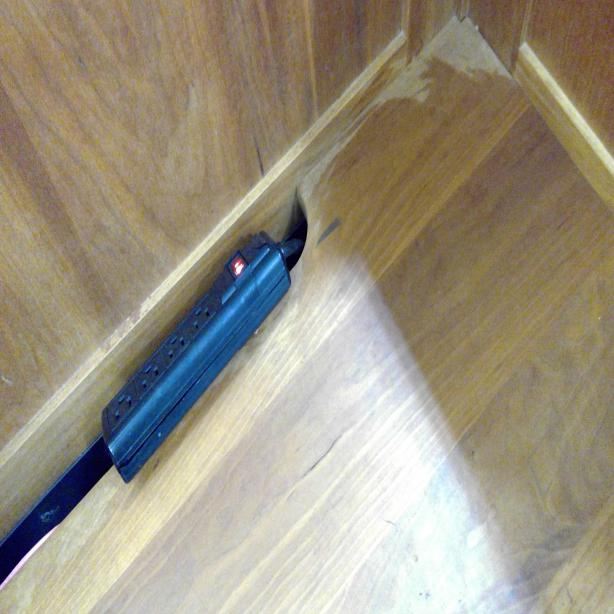typeb: (138, 357, 164, 394), (110, 386, 134, 425), (189, 299, 213, 331), (165, 332, 186, 361)
